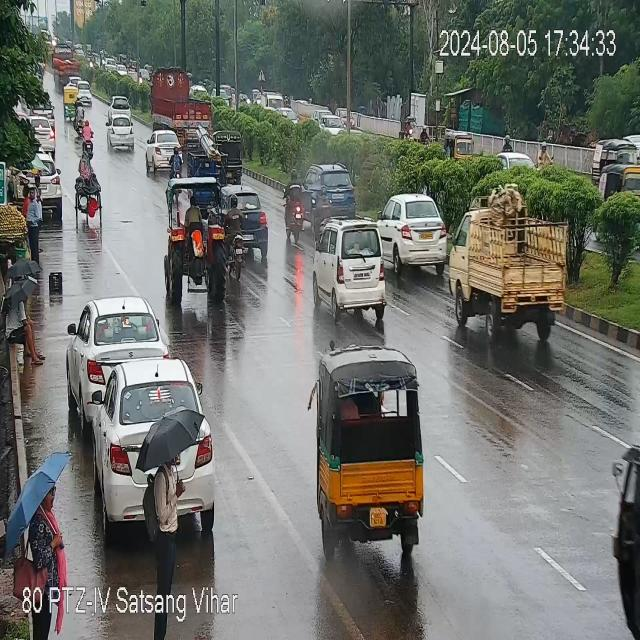2-wheelers: (282, 163, 304, 240), (225, 198, 246, 277), (170, 140, 182, 187), (80, 120, 94, 154), (75, 99, 85, 136)
auto: (320, 347, 432, 548), (603, 419, 640, 640), (72, 143, 106, 227), (597, 158, 640, 204), (187, 131, 218, 179), (218, 130, 244, 178), (442, 126, 470, 157), (62, 83, 77, 118)
car: (90, 361, 200, 466), (67, 295, 162, 394), (313, 214, 394, 317), (164, 176, 227, 296), (380, 191, 449, 273), (302, 160, 353, 210), (241, 180, 270, 258), (146, 131, 180, 169), (105, 116, 136, 152), (43, 155, 61, 217), (29, 114, 58, 148), (108, 95, 132, 116), (43, 106, 58, 129), (79, 81, 93, 105)
pedestrian: (17, 481, 68, 633), (144, 458, 186, 591), (23, 185, 46, 260), (34, 171, 44, 213)
truck: (453, 208, 572, 340), (151, 66, 218, 134)
